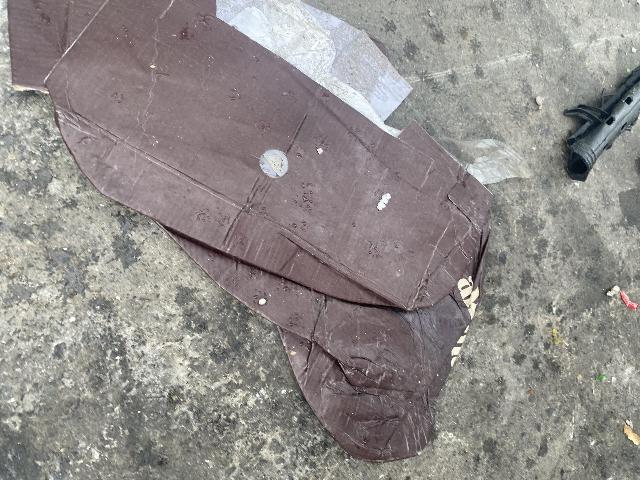Kagit: (6, 0, 508, 460), (610, 268, 640, 324), (611, 408, 640, 449)
Organik: (552, 54, 640, 190)
